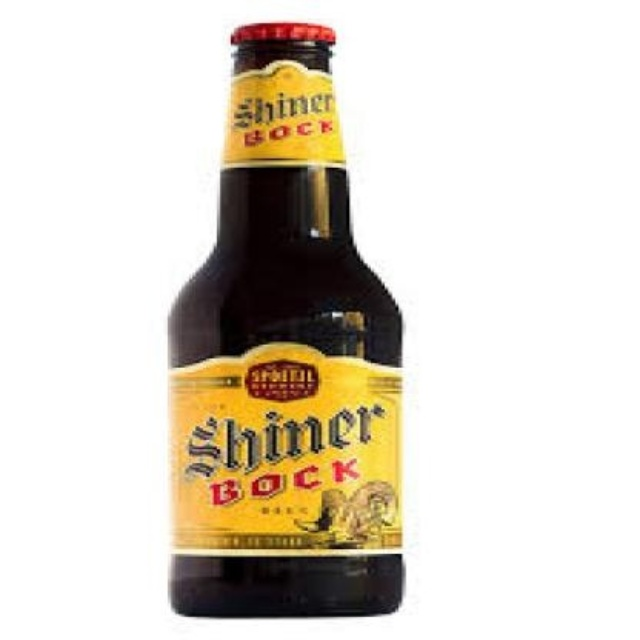trash: (169, 23, 402, 614)
